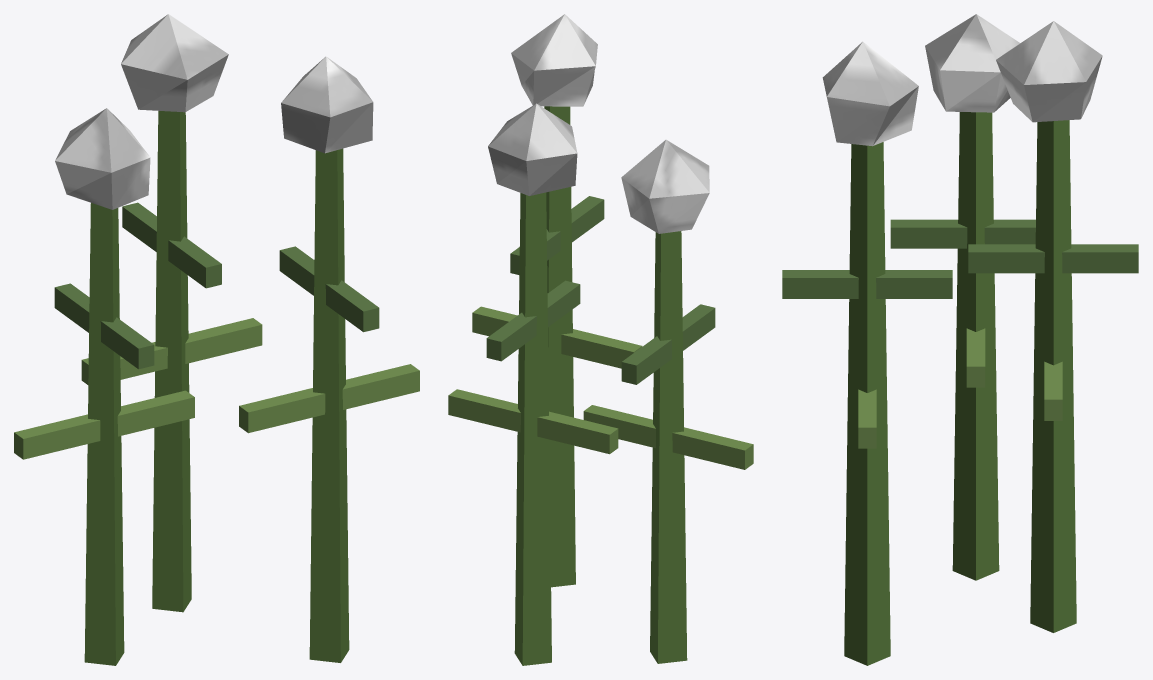
The model's file is hops.obj.
3 views of the same model, side by side, from view 1: azimuth 30°, elevation 25°; view 2: azimuth 150°, elevation 25°; view 3: azimuth 270°, elevation 25° (orthographic). The views are drawn at different scales.
Parts seen in each view (by area): view 1: hops; view 2: hops; view 3: hops.
Part boxes in pixels (<box>): hops: <box>14,14,419,665</box>; hops: <box>448,14,753,665</box>; hops: <box>782,14,1138,665</box>.
Size of the model in its own units: 0.52 by 0.8709 by 0.46.
